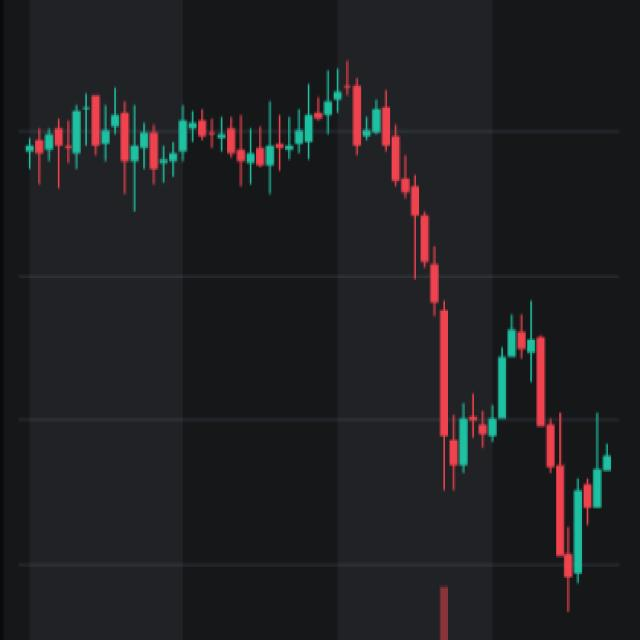Support-breakout: (260, 42, 462, 507)
